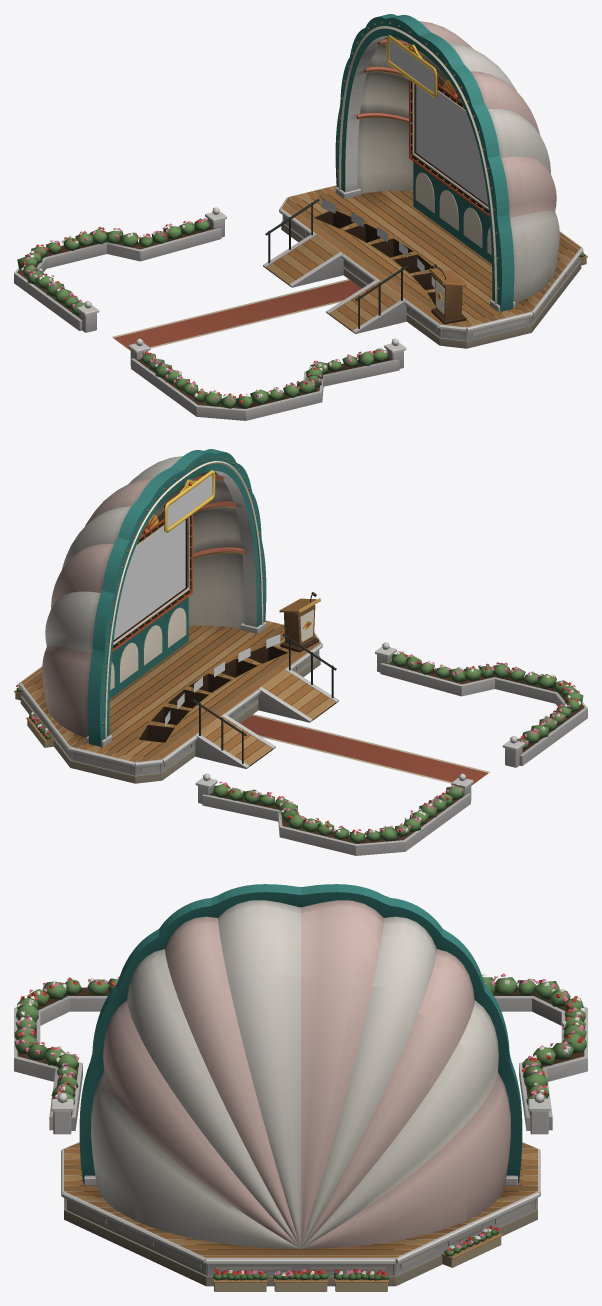
The model's file is quiz_venue.glb.
3 renders of one model, top to bottom at view 1: azimuth 30°, elevation 25°; view 2: azimuth 150°, elevation 25°; view 3: azimuth 270°, elevation 25°, orthographic. The views are drawn at different scales.
Parts seen in each view (by area): view 1: static_quiz, zone_edge, board_face, sign_face, plate_faces; view 2: static_quiz, zone_edge, board_face, sign_face, plate_faces; view 3: static_quiz, zone_edge.
Part boxes in pixels (box(x1,y1,x2,y2)): static_quiz: box(112, 14, 587, 350); zone_edge: box(14, 207, 406, 420); board_face: box(416, 85, 488, 204); sign_face: box(389, 40, 434, 92); plate_faces: box(321, 199, 435, 289); static_quiz: box(14, 449, 489, 785); zone_edge: box(195, 642, 587, 855); board_face: box(113, 520, 185, 639); sign_face: box(167, 475, 212, 527); plate_faces: box(165, 634, 280, 726); static_quiz: box(61, 884, 540, 1291); zone_edge: box(14, 973, 587, 1134).
Size of the model in its own units: 13.16 by 6.7 by 10.9.
